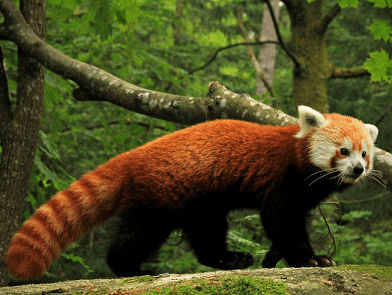red_panda: (8, 108, 379, 278)
